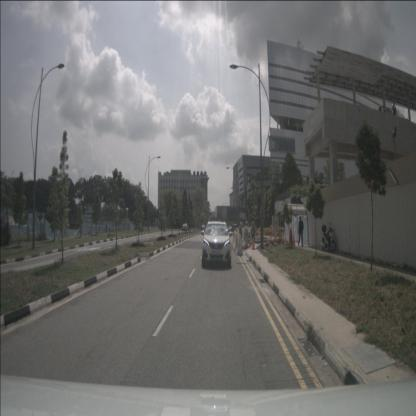human-pedestrian-adult: (298, 216, 304, 248)
movable_object-barrier: (235, 234, 243, 255), (233, 232, 238, 252), (232, 231, 235, 245)
movable_object-trafficcone: (251, 236, 256, 250), (292, 233, 296, 247), (249, 236, 253, 249), (274, 230, 278, 242)
vehicle-car: (202, 221, 232, 269), (182, 223, 190, 232), (200, 224, 208, 231), (228, 226, 233, 233)
vehicle-motorcycle: (320, 222, 336, 252)
